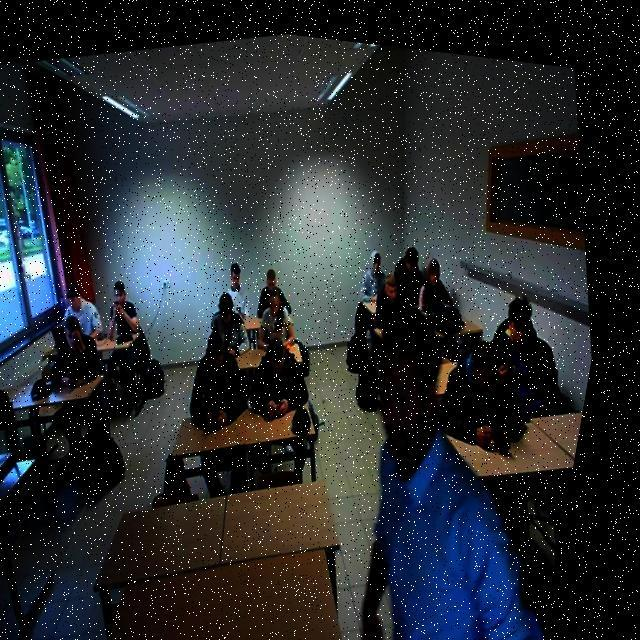phone_use: (441, 298, 568, 452), (189, 332, 245, 431), (249, 338, 308, 418), (47, 315, 100, 390), (107, 280, 137, 341), (226, 262, 246, 315)
